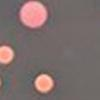pink: (15, 0, 52, 32), (30, 70, 57, 96), (0, 42, 18, 66), (0, 72, 6, 92)
